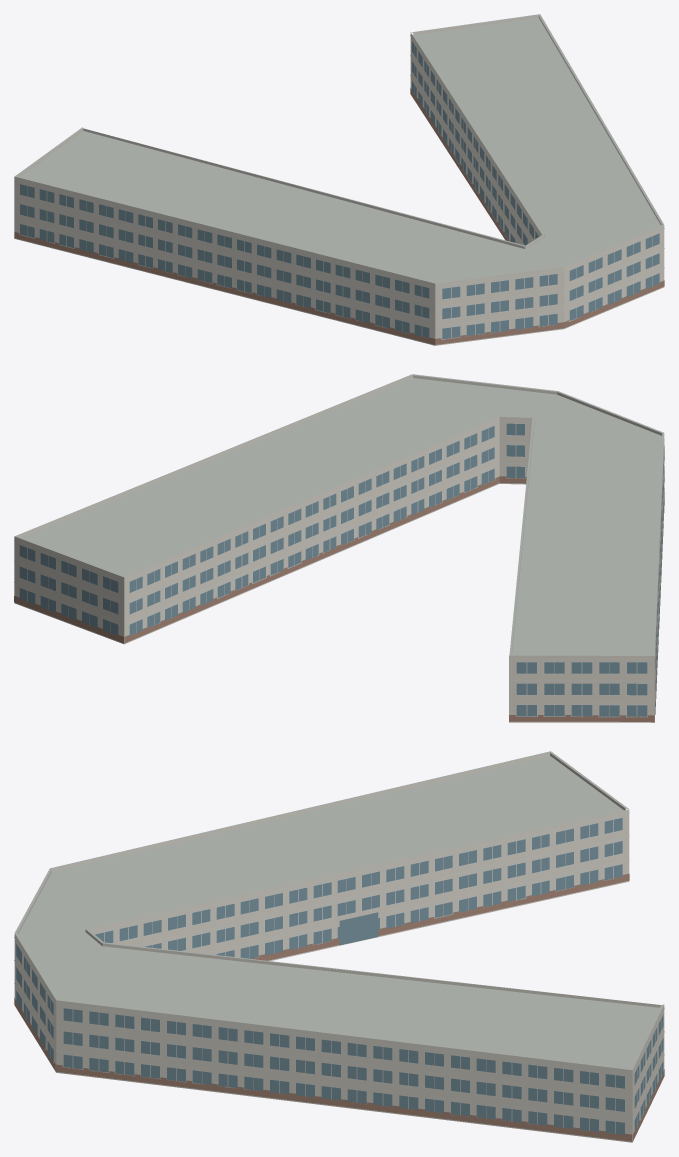
File: public-6b98cbc1-dcf7-4d12-9db3-9dc58ce3d3d4.glb
The picture shows the model from 3 angles, top to bottom: view 1: azimuth 30°, elevation 25°; view 2: azimuth 150°, elevation 25°; view 3: azimuth 270°, elevation 25°; orthographic projection. The views are drawn at different scales.
Visible parts, largest first — view 1: public-6b98cbc1-dcf7-4d12-9db3-9dc58ce3d3d4; view 2: public-6b98cbc1-dcf7-4d12-9db3-9dc58ce3d3d4; view 3: public-6b98cbc1-dcf7-4d12-9db3-9dc58ce3d3d4.
Part boxes in pixels (x1,y1,x2,y2): public-6b98cbc1-dcf7-4d12-9db3-9dc58ce3d3d4: (14,14,664,345); public-6b98cbc1-dcf7-4d12-9db3-9dc58ce3d3d4: (14,374,664,722); public-6b98cbc1-dcf7-4d12-9db3-9dc58ce3d3d4: (14,751,664,1142).
Bounding box in the file's own units: 86.4 × 9.15 × 74.4.
